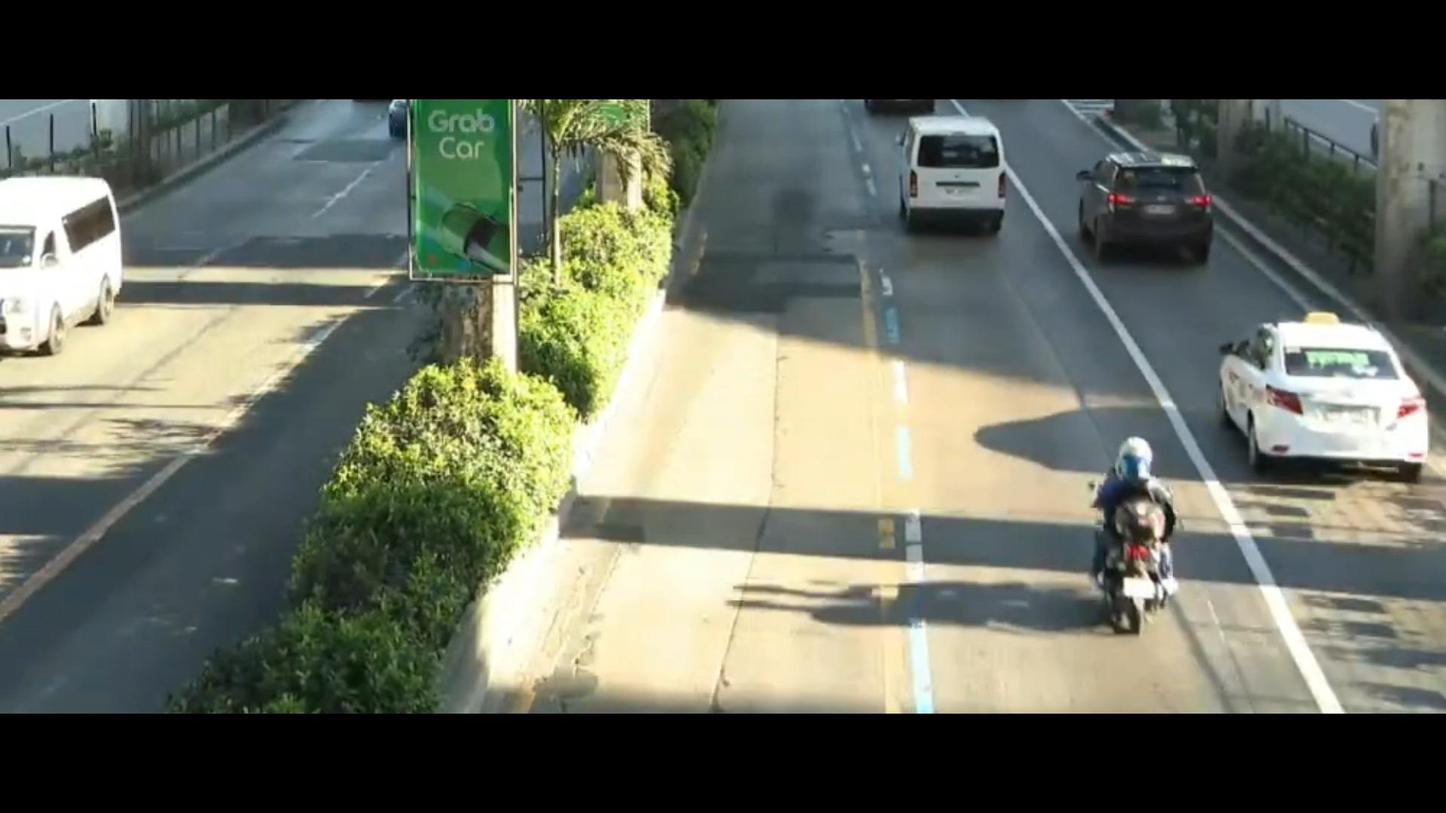Motorcycle: (1062, 428, 1218, 634)
SUV: (1060, 136, 1245, 270)
Sedan: (1217, 298, 1446, 488)
Van: (0, 164, 168, 354), (879, 110, 1021, 238)
